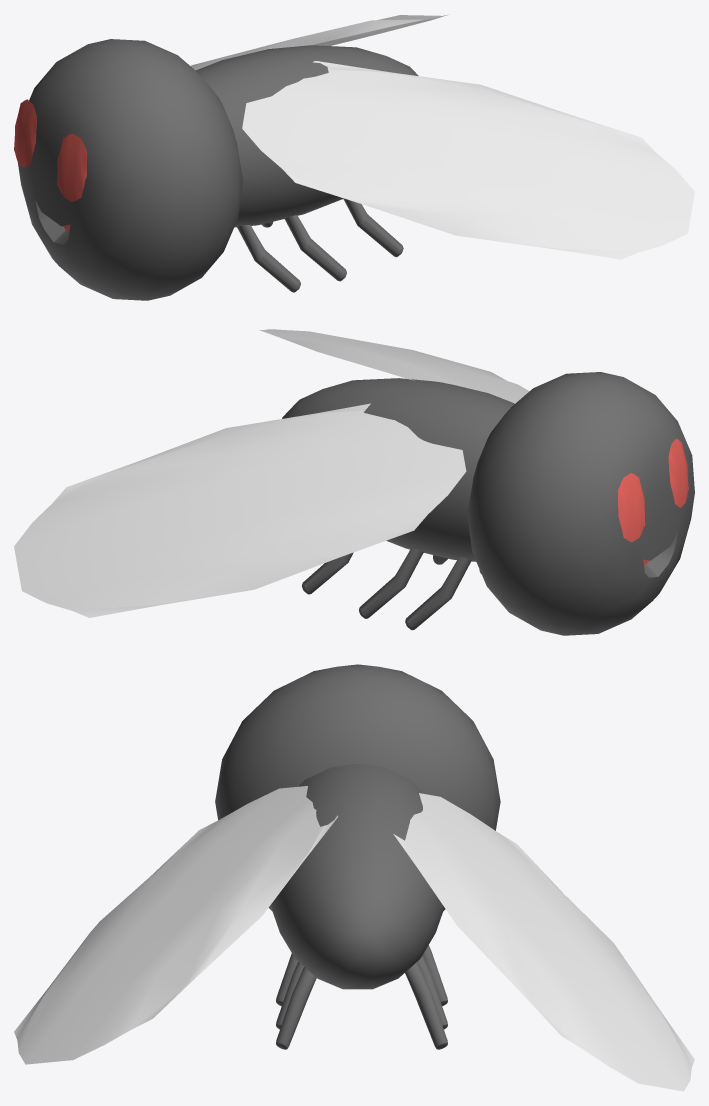
Rendered from flyMouth.fbx.
3 views of the same model, one above another, from view 1: azimuth 30°, elevation 25°; view 2: azimuth 150°, elevation 25°; view 3: azimuth 270°, elevation 25° (orthographic). The views are drawn at different scales.
Parts seen in each view (by area): view 1: Plane, Icosphere, Icosphere.001, Plane.001, Plane.002, Cylinder.003, Plane.003, Cylinder.004, Cylinder.006; view 2: Plane.001, Icosphere, Icosphere.001, Plane, Plane.003, Cylinder.001, Cylinder.002, Plane.002, Cylinder.005; view 3: Plane, Plane.001, Icosphere, Icosphere.001, Cylinder.005, Cylinder.006.
Boxes of the visible parts, <box> form: Plane: <box>242,61,694,259</box>; Icosphere: <box>17,39,242,300</box>; Icosphere.001: <box>196,45,418,227</box>; Plane.001: <box>190,14,448,70</box>; Plane.002: <box>57,133,87,202</box>; Cylinder.003: <box>237,225,300,292</box>; Plane.003: <box>14,99,37,167</box>; Cylinder.004: <box>284,215,346,281</box>; Cylinder.006: <box>343,198,403,257</box>; Plane.001: <box>14,403,466,617</box>; Icosphere: <box>467,372,694,635</box>; Icosphere.001: <box>282,378,514,561</box>; Plane: <box>259,329,529,402</box>; Plane.003: <box>617,473,645,542</box>; Cylinder.001: <box>405,557,471,630</box>; Cylinder.002: <box>359,548,423,618</box>; Plane.002: <box>668,438,688,507</box>; Cylinder.005: <box>302,552,353,594</box>; Plane: <box>14,786,337,1064</box>; Plane.001: <box>393,793,694,1091</box>; Icosphere: <box>215,664,500,911</box>; Icosphere.001: <box>270,764,444,989</box>; Cylinder.005: <box>405,962,447,1049</box>; Cylinder.006: <box>276,967,316,1049</box>.
Size of the model in its own units: 455 by 210 by 487.
